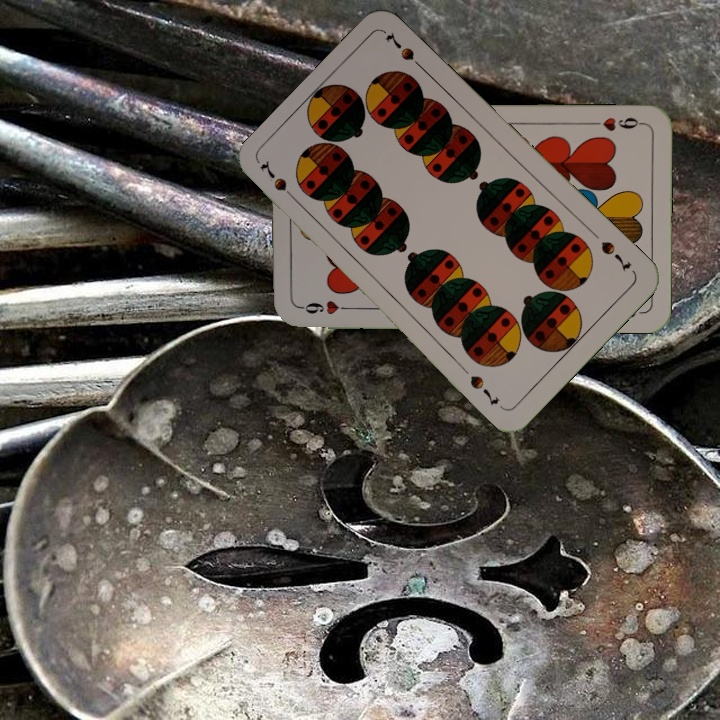H9: (296, 297, 355, 318), (587, 113, 646, 133)
S7: (256, 158, 302, 207), (597, 237, 634, 274)
